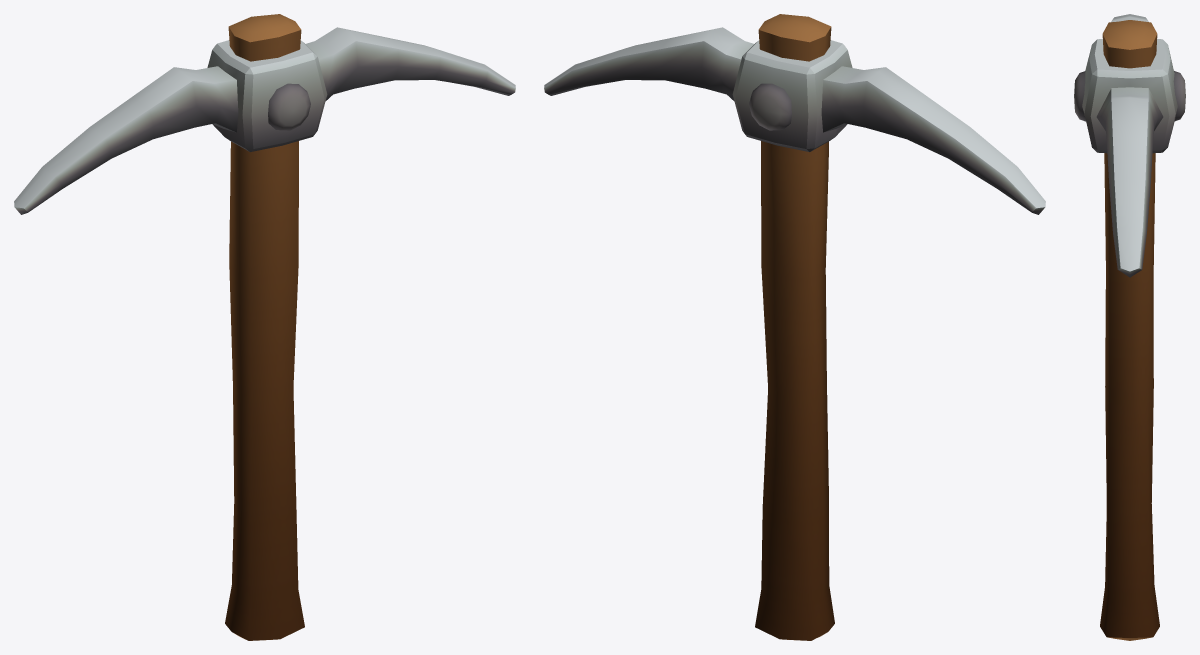
File: Pickaxe_03.obj
3 views of the same model, side by side, from view 1: azimuth 30°, elevation 25°; view 2: azimuth 150°, elevation 25°; view 3: azimuth 270°, elevation 25° (orthographic).
Visible parts, largest first — view 1: Pickaxe_03; view 2: Pickaxe_03; view 3: Pickaxe_03.
Part boxes in pixels (bbox=[...]): Pickaxe_03: bbox=[14, 14, 515, 640]; Pickaxe_03: bbox=[544, 14, 1045, 640]; Pickaxe_03: bbox=[1074, 14, 1185, 640].
Size of the model in its own units: 0.8812 by 1.03 by 0.1729.
